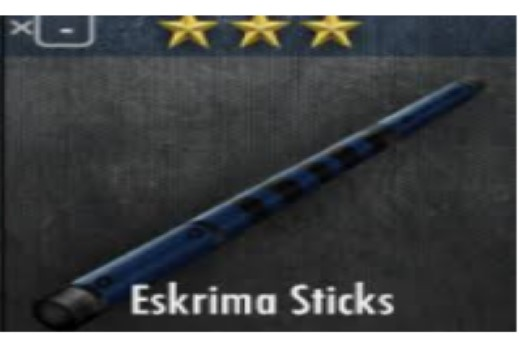baston_e: (98, 71, 456, 324)
baston_v: (25, 278, 109, 344), (458, 58, 494, 103)
